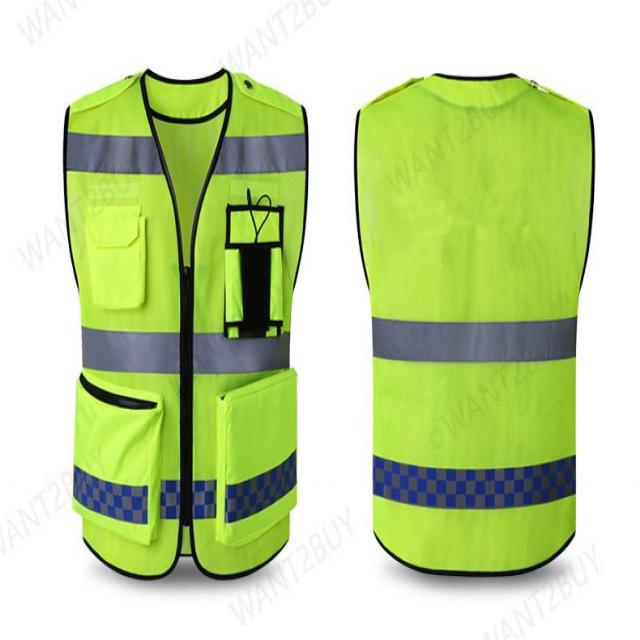Reflective-Jacket: (42, 57, 324, 586), (336, 59, 612, 588)
